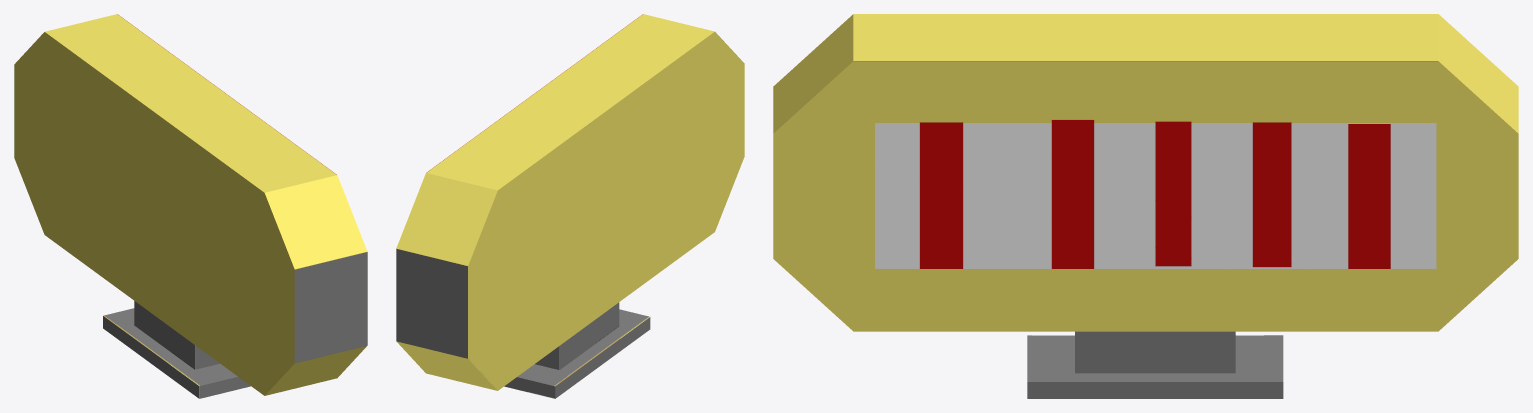
Rendered from Obstacle.fbx.
The picture shows the model from 3 angles, left to right: view 1: azimuth 30°, elevation 25°; view 2: azimuth 150°, elevation 25°; view 3: azimuth 270°, elevation 25°; orthographic projection. The views are drawn at different scales.
Visible parts, largest first — view 1: Cube; view 2: Cube; view 3: Cube.
Part boxes in pixels (box(x1,y1,x2,y2)): Cube: box(14, 14, 367, 398); Cube: box(396, 14, 744, 398); Cube: box(773, 14, 1518, 398).
Size of the model in its own units: 60 by 200 by 400.
Materials: 1 (1 with a texture image).
